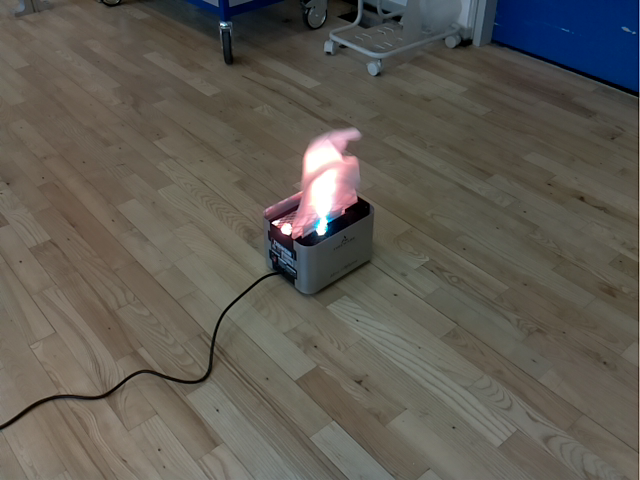fire: (292, 127, 362, 238)
